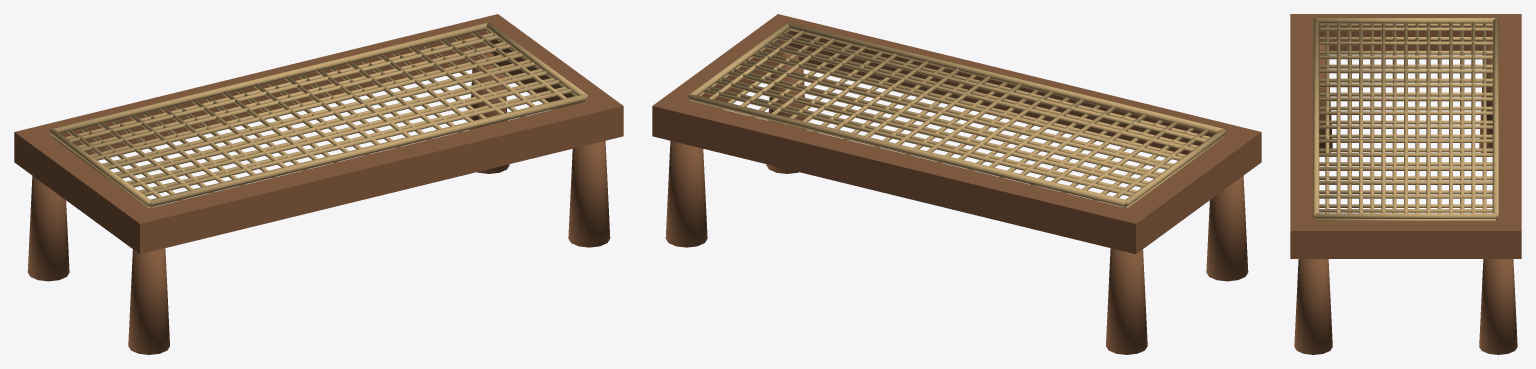
Rendered from charpai_01.glb.
3 renders of one model, left to right at view 1: azimuth 30°, elevation 25°; view 2: azimuth 150°, elevation 25°; view 3: azimuth 270°, elevation 25°, orthographic. The views are drawn at different scales.
Visible parts, largest first — view 1: Wood_Long_Left, Wood_Long_Right, Wood_End_Front, Leg_Front_Left, Leg_Back_Left, Leg_Front_Right, Rope_Border_Left, Rope_Border_Right, Wood_End_Back, Rope_Long_05, Rope_Long_03, Rope_Long_07 (+29 smaller); view 2: Wood_Long_Right, Wood_Long_Left, Wood_End_Front, Leg_Front_Right, Leg_Back_Right, Leg_Front_Left, Rope_Border_Right, Rope_Border_Left, Wood_End_Back, Rope_Long_13, Rope_Long_05, Rope_Long_11 (+29 smaller); view 3: Wood_End_Back, Wood_Long_Right, Wood_Long_Left, Leg_Back_Left, Leg_Back_Right, Wood_End_Front, Rope_Border_Left, Rope_Border_Right, Rope_Border_Back, Rope_Border_Front, Rope_Long_07, Rope_Long_11 (+44 smaller).
Boxes of the visible parts, left/top/right/bottom form: Wood_Long_Left: left=126, top=96, right=623, bottom=253; Wood_Long_Right: left=14, top=14, right=510, bottom=172; Wood_End_Front: left=14, top=127, right=164, bottom=254; Leg_Front_Left: left=128, top=248, right=169, bottom=354; Leg_Back_Left: left=568, top=141, right=610, bottom=247; Leg_Front_Right: left=27, top=176, right=69, bottom=281; Rope_Border_Left: left=150, top=94, right=586, bottom=206; Rope_Border_Right: left=51, top=22, right=487, bottom=133; Wood_End_Back: left=474, top=14, right=613, bottom=111; Rope_Long_05: left=130, top=80, right=560, bottom=187; Rope_Long_03: left=142, top=89, right=572, bottom=196; Rope_Long_07: left=118, top=71, right=547, bottom=178; Wood_Long_Right: left=652, top=96, right=1149, bottom=253; Wood_Long_Left: left=764, top=14, right=1261, bottom=172; Wood_End_Front: left=1111, top=129, right=1261, bottom=254; Leg_Front_Right: left=1106, top=248, right=1147, bottom=354; Leg_Back_Right: left=665, top=141, right=707, bottom=247; Leg_Front_Left: left=1206, top=176, right=1248, bottom=281; Rope_Border_Right: left=689, top=94, right=1125, bottom=206; Rope_Border_Left: left=788, top=22, right=1224, bottom=133; Wood_End_Back: left=660, top=14, right=801, bottom=111; Rope_Long_13: left=715, top=80, right=1145, bottom=187; Rope_Long_05: left=764, top=44, right=1194, bottom=151; Rope_Long_11: left=728, top=71, right=1157, bottom=178; Wood_End_Back: left=1290, top=220, right=1521, bottom=258; Wood_Long_Right: left=1496, top=14, right=1521, bottom=258; Wood_Long_Left: left=1290, top=14, right=1315, bottom=258; Leg_Back_Left: left=1294, top=259, right=1332, bottom=354; Leg_Back_Right: left=1479, top=259, right=1517, bottom=354; Wood_End_Front: left=1290, top=14, right=1521, bottom=50; Rope_Border_Left: left=1313, top=18, right=1319, bottom=218; Rope_Border_Right: left=1492, top=18, right=1498, bottom=218; Rope_Border_Back: left=1316, top=213, right=1495, bottom=218; Rope_Border_Front: left=1316, top=18, right=1495, bottom=23; Rope_Long_07: left=1381, top=22, right=1385, bottom=213; Rope_Long_11: left=1426, top=22, right=1430, bottom=213.
Size of the model in its own units: 2 by 0.569 by 0.9.
